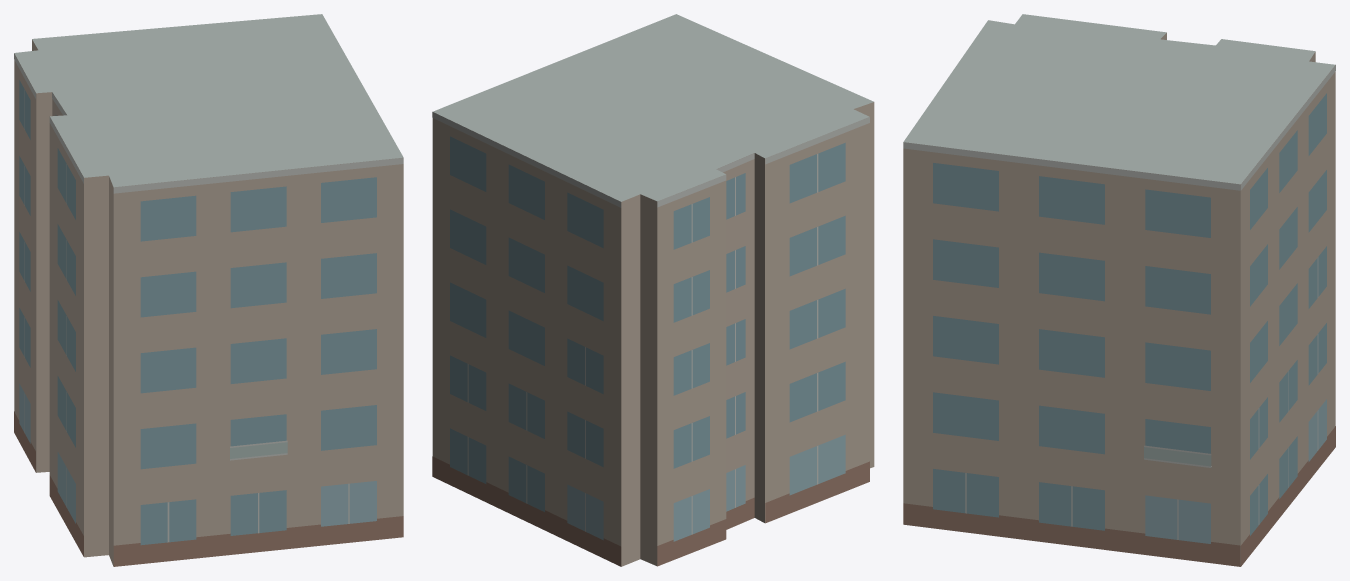
File: survey-upis-32985552.glb
3 views of the same model, side by side, from view 1: azimuth 30°, elevation 25°; view 2: azimuth 150°, elevation 25°; view 3: azimuth 270°, elevation 25° (orthographic). The views are drawn at different scales.
Visible parts, largest first — view 1: survey-upis-32985552.tmp; view 2: survey-upis-32985552.tmp; view 3: survey-upis-32985552.tmp.
Boxes of the visible parts, x1,y1,x2,y2 form: survey-upis-32985552.tmp: [14, 14, 403, 566]; survey-upis-32985552.tmp: [432, 14, 874, 566]; survey-upis-32985552.tmp: [903, 14, 1335, 566].
Size of the model in its own units: 13.96 by 14.6 by 14.97.
